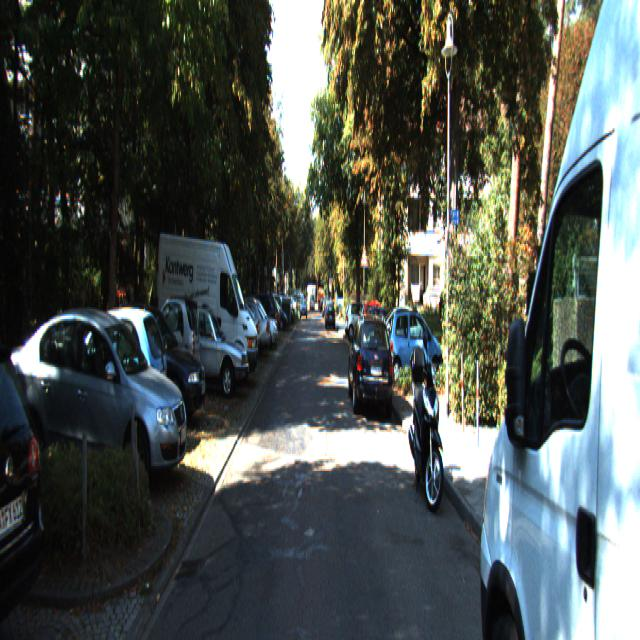Car: (477, 0, 639, 639), (8, 295, 190, 493), (155, 227, 259, 393), (56, 304, 170, 452), (89, 301, 207, 434), (158, 303, 248, 402), (406, 331, 448, 517), (348, 316, 394, 423), (387, 305, 444, 383), (324, 302, 336, 329)
